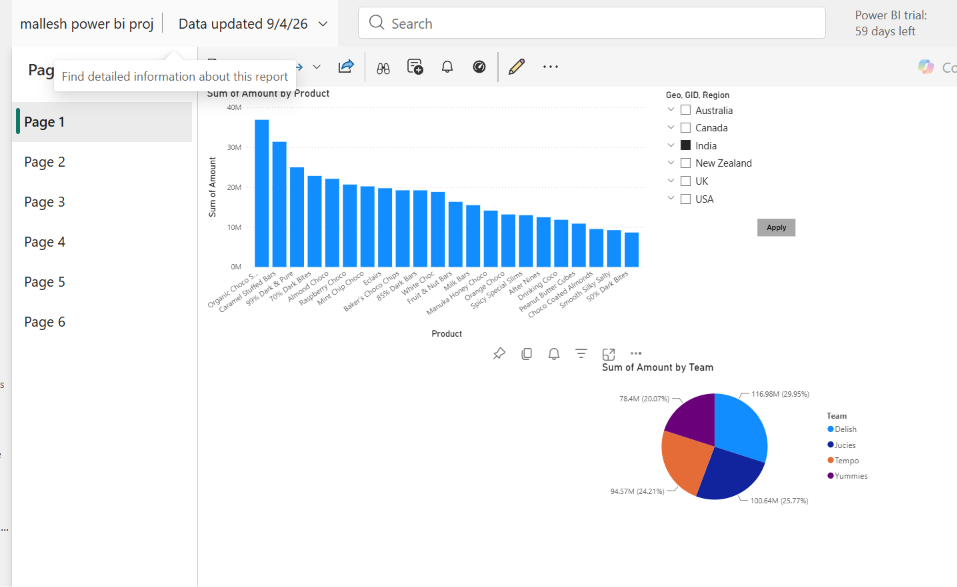

The page's visual inventory and layout, read from the dashboard file:
{"tool":"powerbi","page":{"name":"Page 1","canvas":[1280,720],"ordinal":0},"visuals":[{"type":"columnChart","fields":{"Category":["products.Product"],"Y":["Sum(shipments.Amount)"]},"box":[10,0,724.4,414.4],"z":0},{"type":"slicer","fields":{"Values":["locations.Geo","locations.GID","locations.Region"]},"box":[750,0,230,248.8],"z":1000},{"type":"pieChart","fields":{"Category":["people.Team"],"Y":["Sum(shipments.Amount)"]},"box":[654,446,452,260],"z":2000}]}

Visuals, with their boxes on the page's 1280x720 design canvas (x1, y1, x2, y2). These are canvas units, not pixel positions in the 957x587 screenshot, which may show the page scaled, cropped or inside an application window:
columnChart - products.Product x Sum(shipments.Amount): box=[10, 0, 734, 414]
slicer - locations.Geo x locations.GID: box=[750, 0, 980, 249]
pieChart - people.Team x Sum(shipments.Amount): box=[654, 446, 1106, 706]
